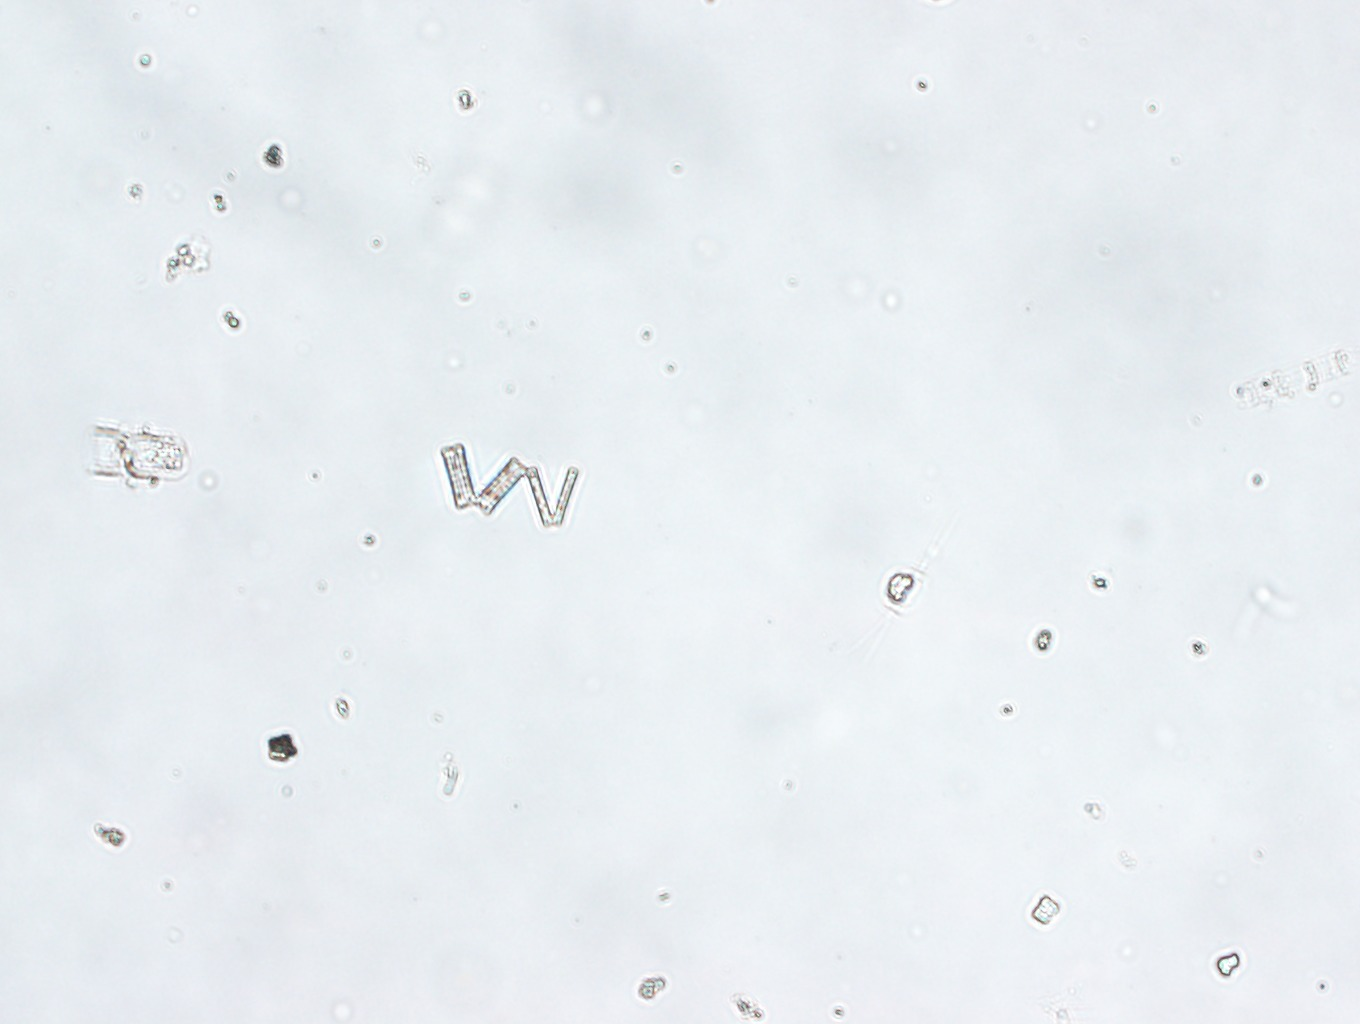thalassionema nitzschioides: (434, 437, 584, 529)
